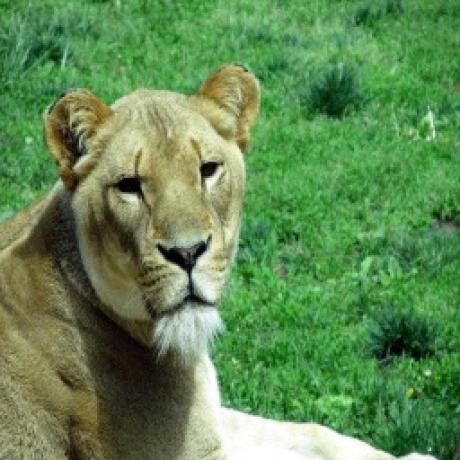Lion: (0, 63, 433, 460)
